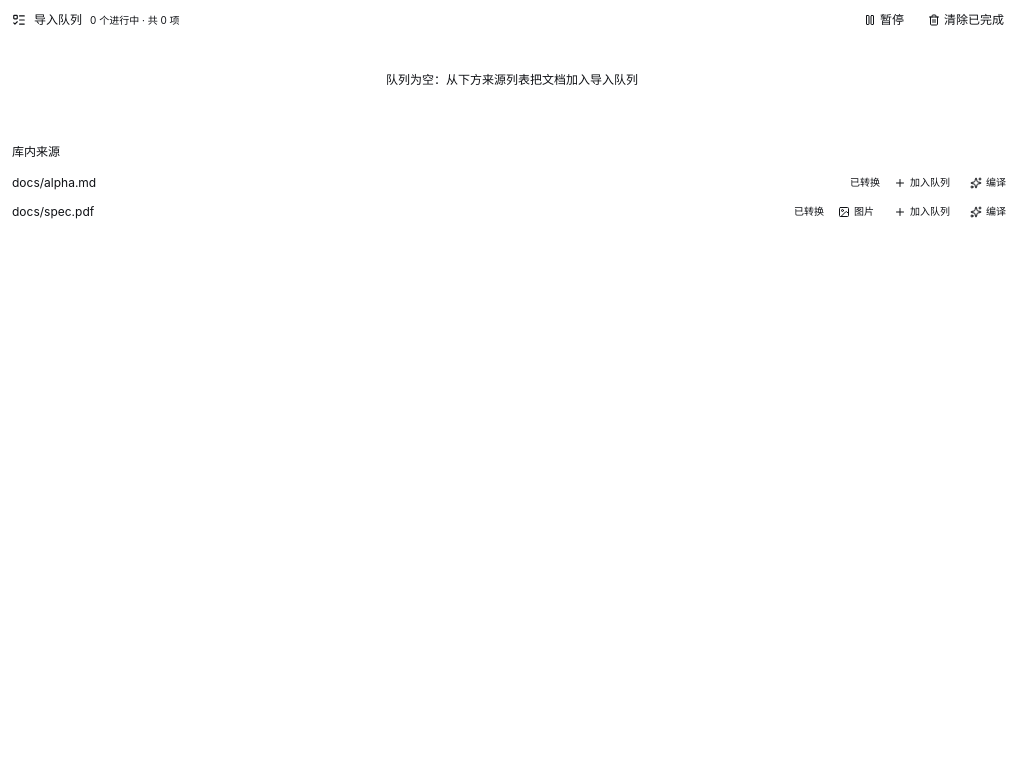
Test: KbWikiTasks PDF 资产面板（issue 11） › 选中卡片并排显示模型解读：字段完整且标注非原文
Expected: the text "docs/spec.pdf" is shown, [12,204,94,219]
Click the button titled "查看 PDF 图像资产" at [856, 212], box [832,203,880,221]
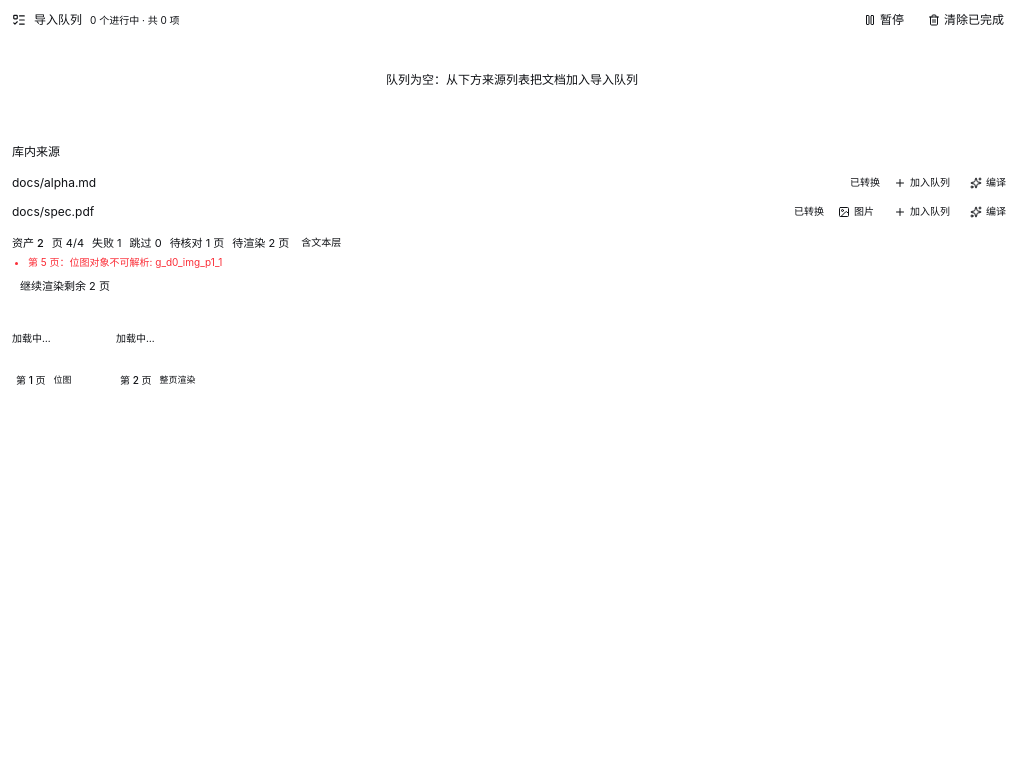
Click the button "加载中… 第 1 页 位图" at [60, 348], box [12,307,108,390]
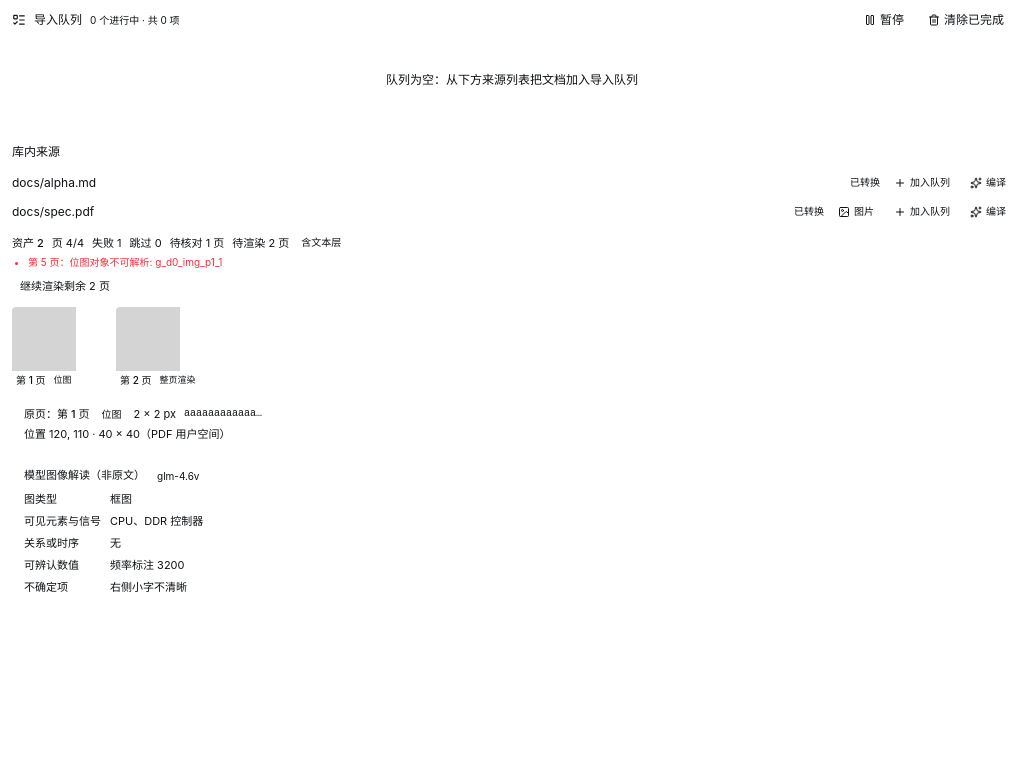
Expected: the element with test id "vision-interpretation" is shown, [24,468,203,594]
Expected: the text "模型图像解读（非原文）" is shown, [24,467,145,485]
Expected: the text "glm-4.6v" is shown, [157,470,200,482]
